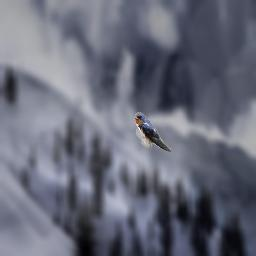Swallow: (134, 112, 171, 152)
